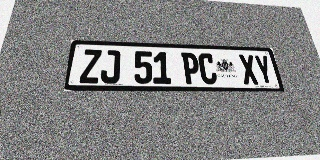1: (152, 52, 171, 84)
5: (134, 51, 153, 84)
C: (198, 53, 218, 84)
J: (100, 50, 120, 84)
P: (181, 52, 201, 84)
X: (238, 54, 260, 85)
Y: (253, 55, 275, 85)
Z: (79, 49, 102, 83)
